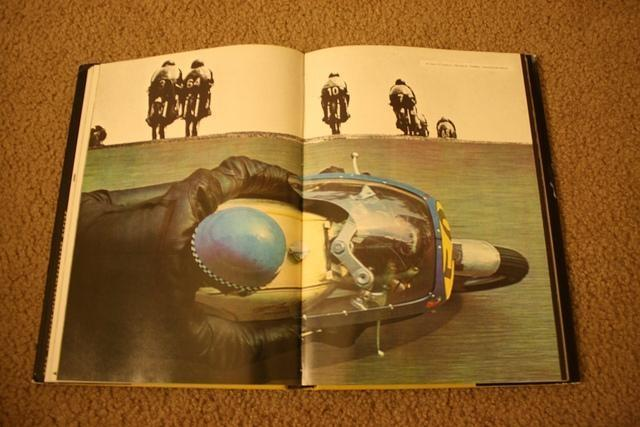motorcycle: (194, 171, 530, 359)
